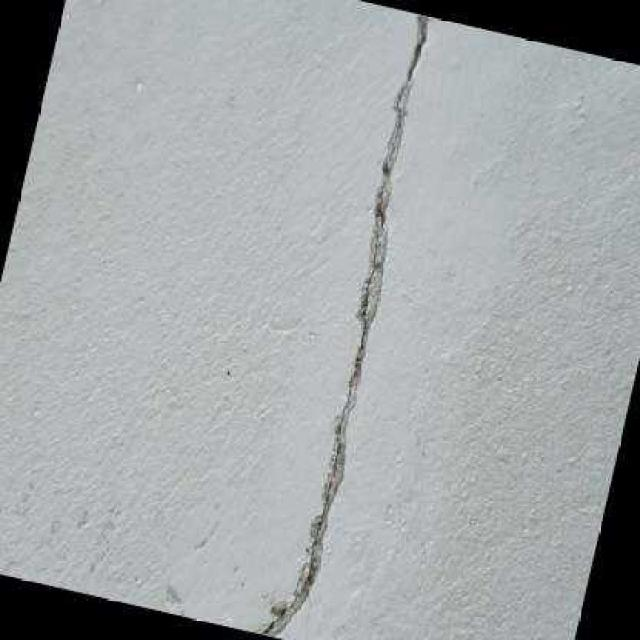D00: (260, 16, 423, 635)
